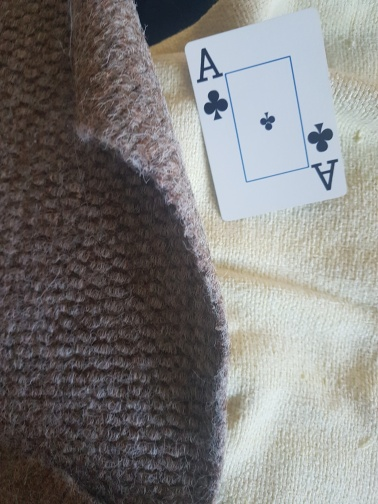ace: (184, 10, 348, 223)
